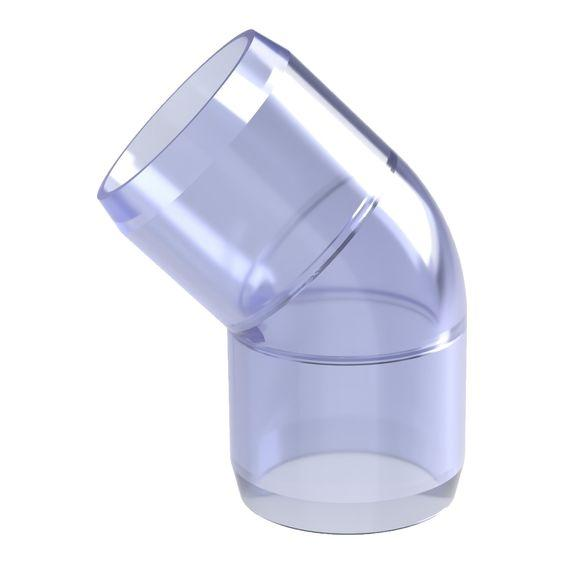PVC: (51, 0, 529, 564)
